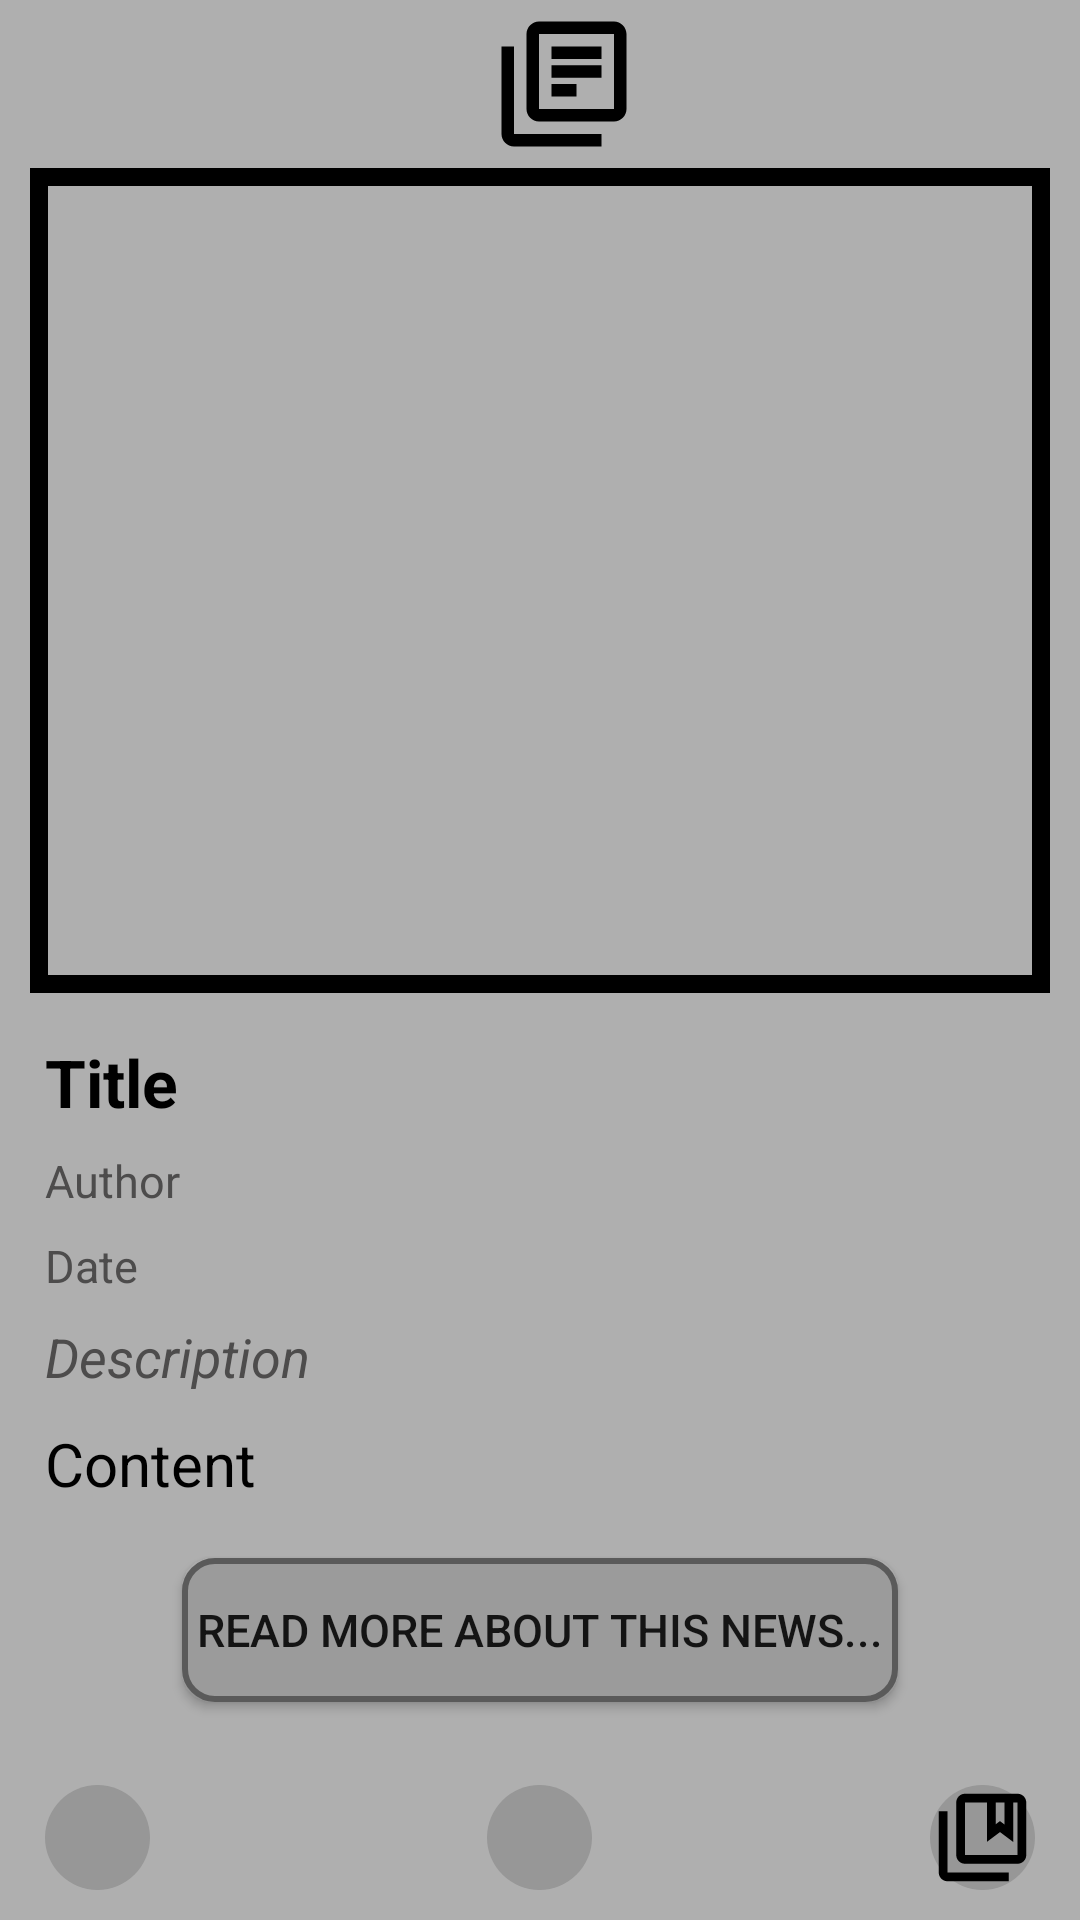

Point at icon controls on the screen. Image size 1080 × 1920, points as (x,y).
collections bookmark: (982,1837)
library books: (564,84)
